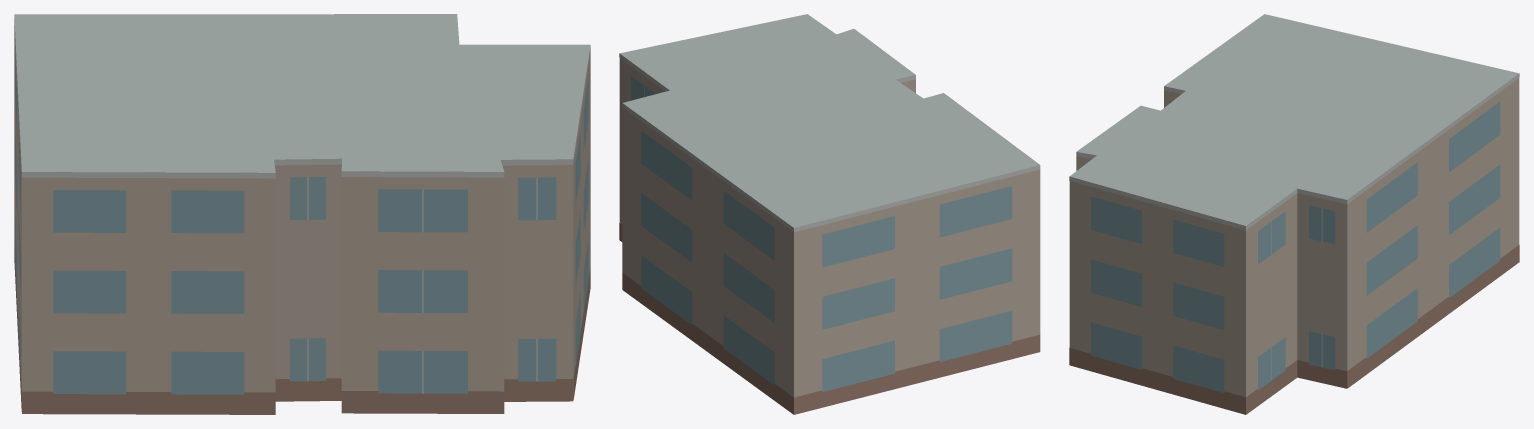
Rendered from survey-upis-32931147.glb.
3 renders of one model, left to right at view 1: azimuth 30°, elevation 25°; view 2: azimuth 150°, elevation 25°; view 3: azimuth 270°, elevation 25°, orthographic. The views are drawn at different scales.
Parts seen in each view (by area): view 1: survey-upis-32931147.tmp; view 2: survey-upis-32931147.tmp; view 3: survey-upis-32931147.tmp.
Boxes of the visible parts, x1,y1,x2,y2 form: survey-upis-32931147.tmp: (14,14,590,414); survey-upis-32931147.tmp: (619,14,1040,414); survey-upis-32931147.tmp: (1069,14,1519,414).
Size of the model in its own units: 25.05 by 10.4 by 22.46.
